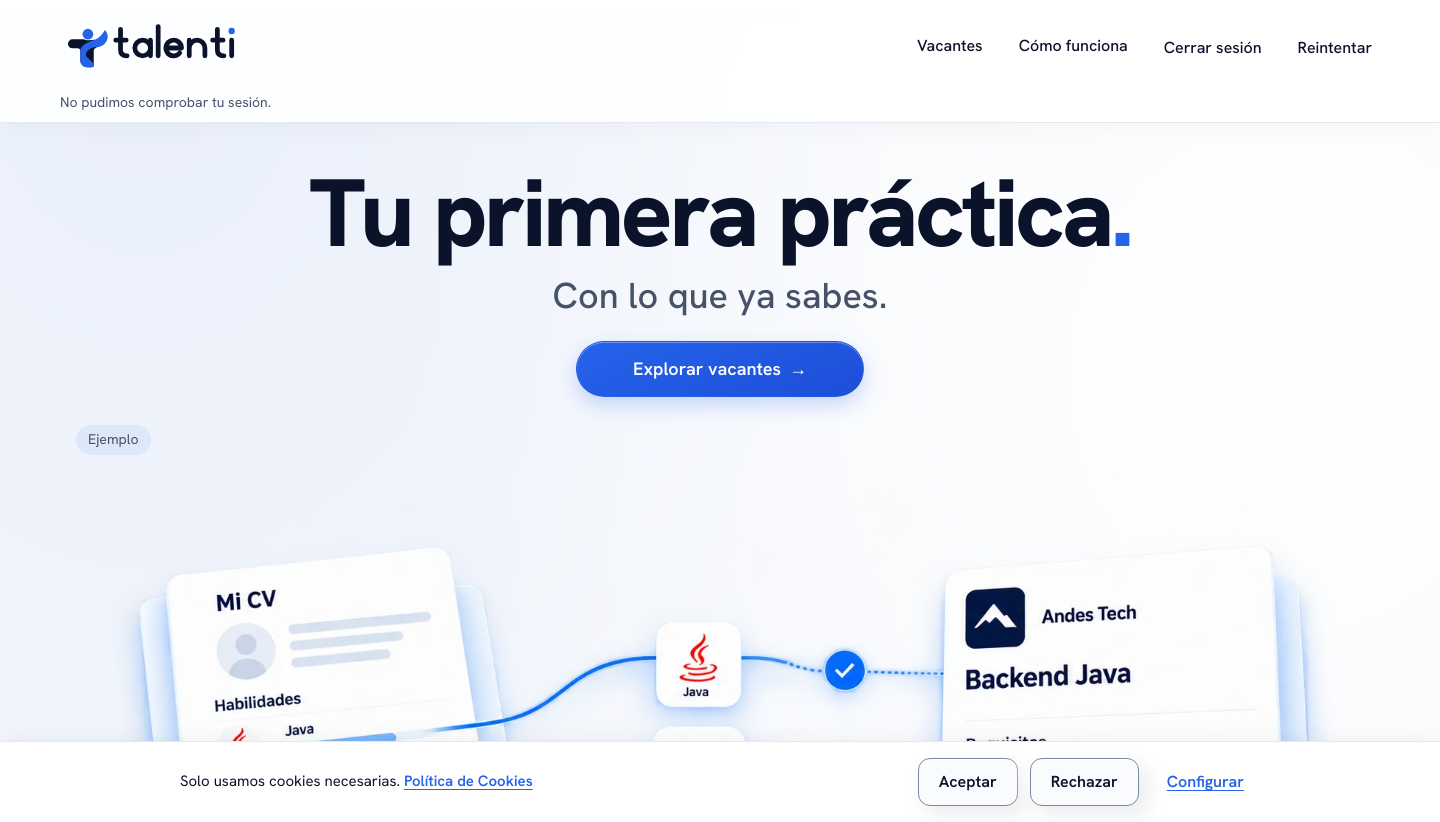
Scenario: "Cerrar sesión" when the session cannot be checked (M1) › unavailable: "Cerrar sesión" works (POST /auth/logout does not depend on /me) and leads to /ingresar
The width and height of the screenshot is (1440, 822).
Expected: the text "No pudimos comprobar tu sesión." is shown, [60,93,271,111]
Click the button "Cerrar sesión" at x=1213, y=48, box [1156,12,1270,84]
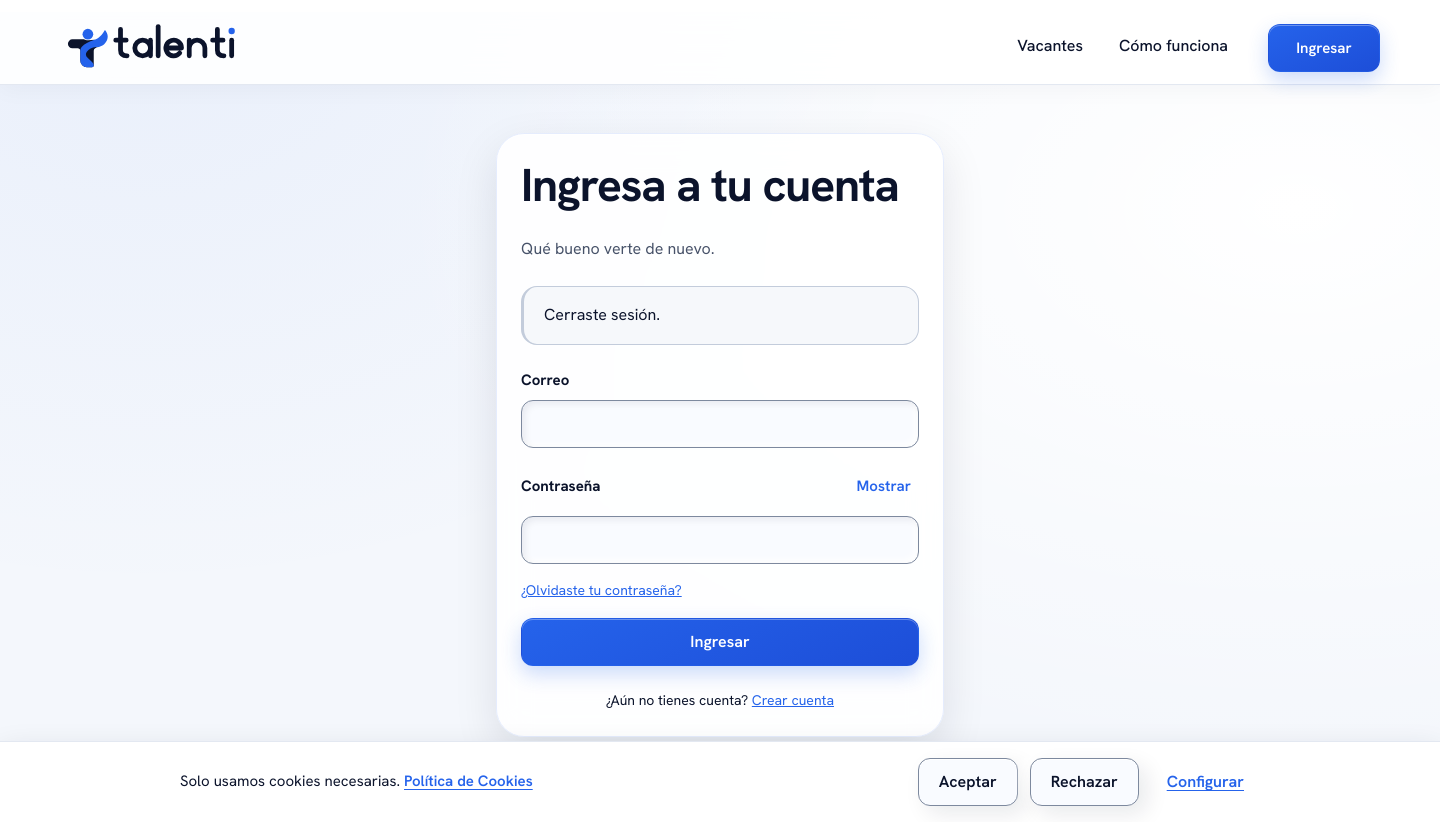
Result: the text "Cerraste sesión." is shown at [544,304,660,325]
